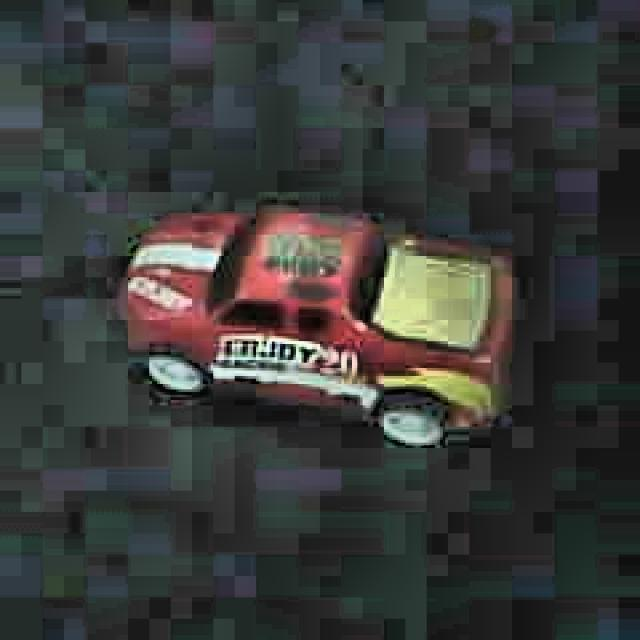car: (113, 197, 520, 456)
